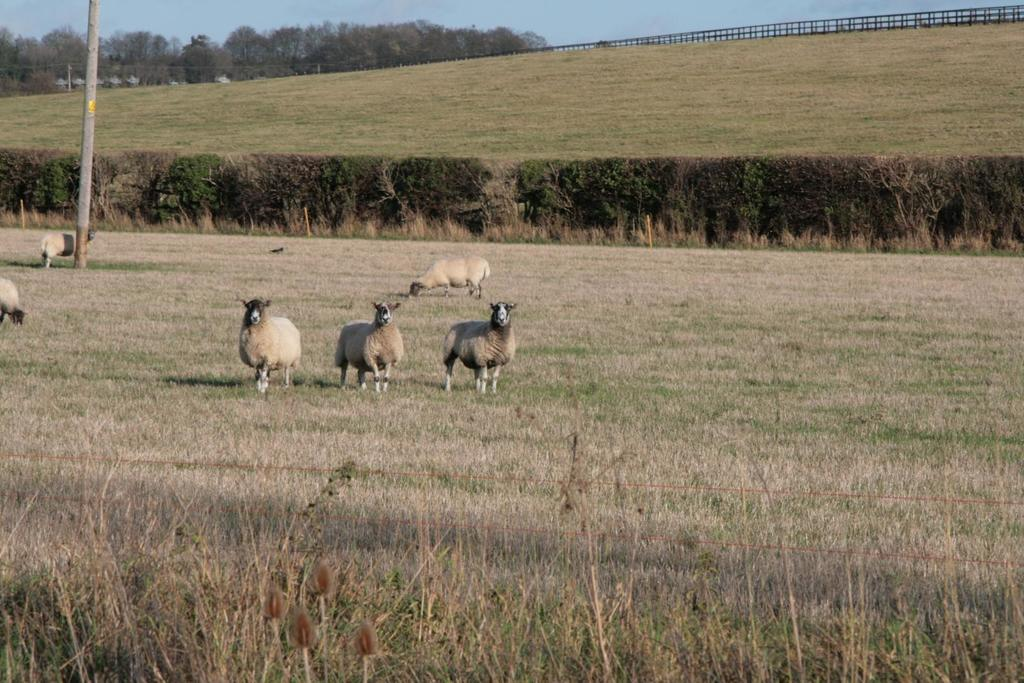sheep: (442, 302, 515, 396), (335, 298, 403, 398), (236, 301, 298, 394), (408, 256, 490, 297)
